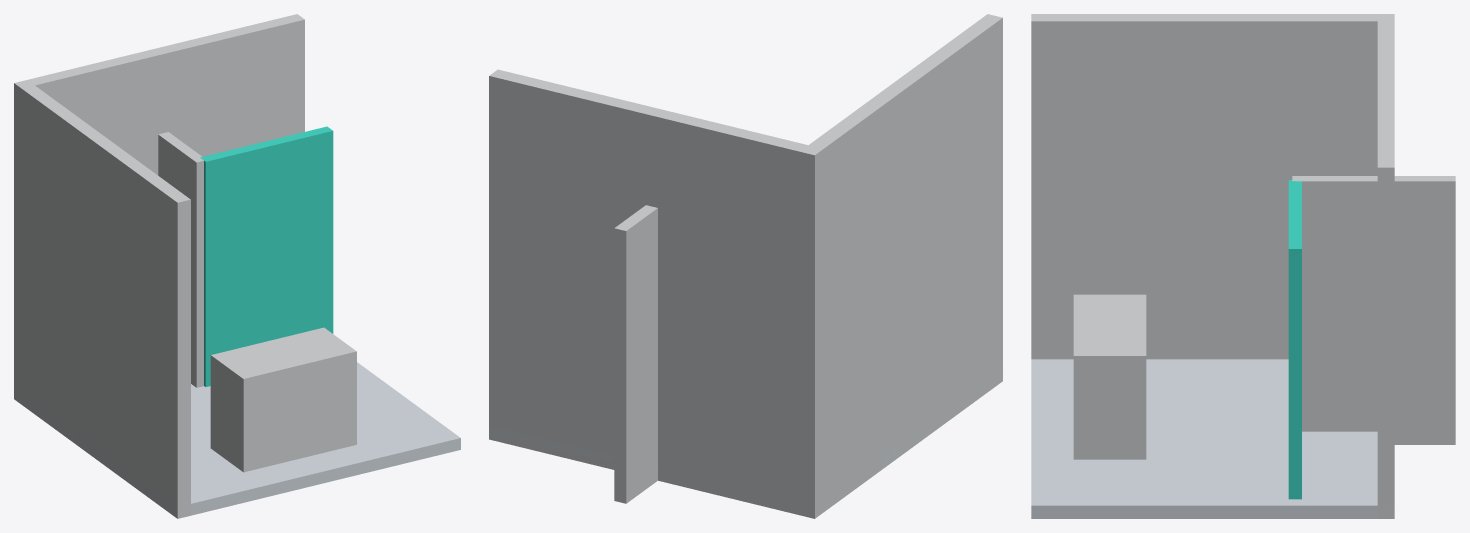
3 views of the same model, side by side, from view 1: azimuth 30°, elevation 25°; view 2: azimuth 150°, elevation 25°; view 3: azimuth 270°, elevation 25° (orthographic). The views are drawn at different scales.
Parts seen in each view (by area): view 1: Exhibition Booth Concept; view 2: Exhibition Booth Concept; view 3: Exhibition Booth Concept.
Part boxes in pixels (left/top/right/bottom): Exhibition Booth Concept: left=14, top=14, right=460, bottom=518; Exhibition Booth Concept: left=489, top=14, right=1002, bottom=518; Exhibition Booth Concept: left=1031, top=14, right=1455, bottom=518.
Bounding box in the file's own units: 3 × 3.2 × 3.51.
